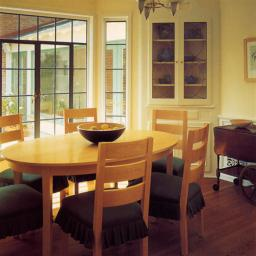Puerta: (4, 39, 69, 128)
Ventana: (102, 18, 131, 120)
